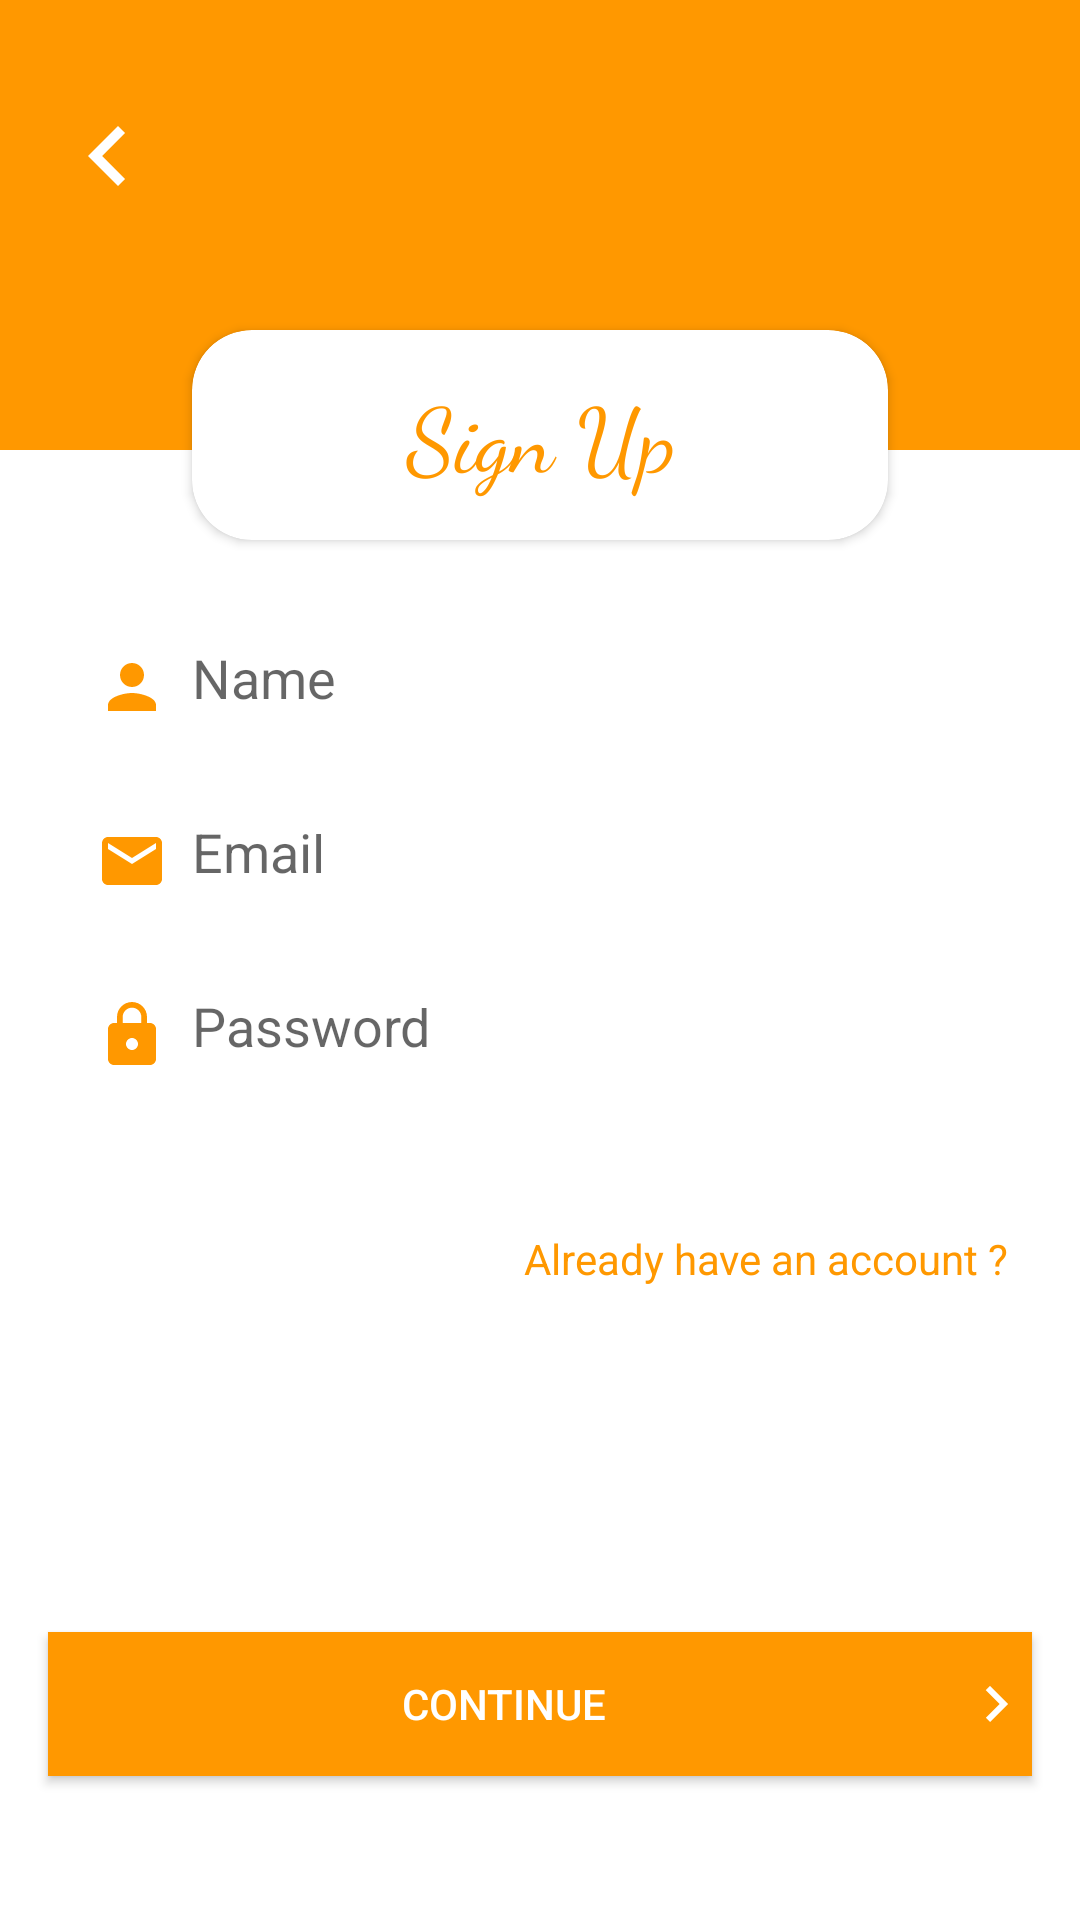

Screen size 1080 x 1920. Icon name, then its center in pixels as point (x, y):
back: point (106, 156)
